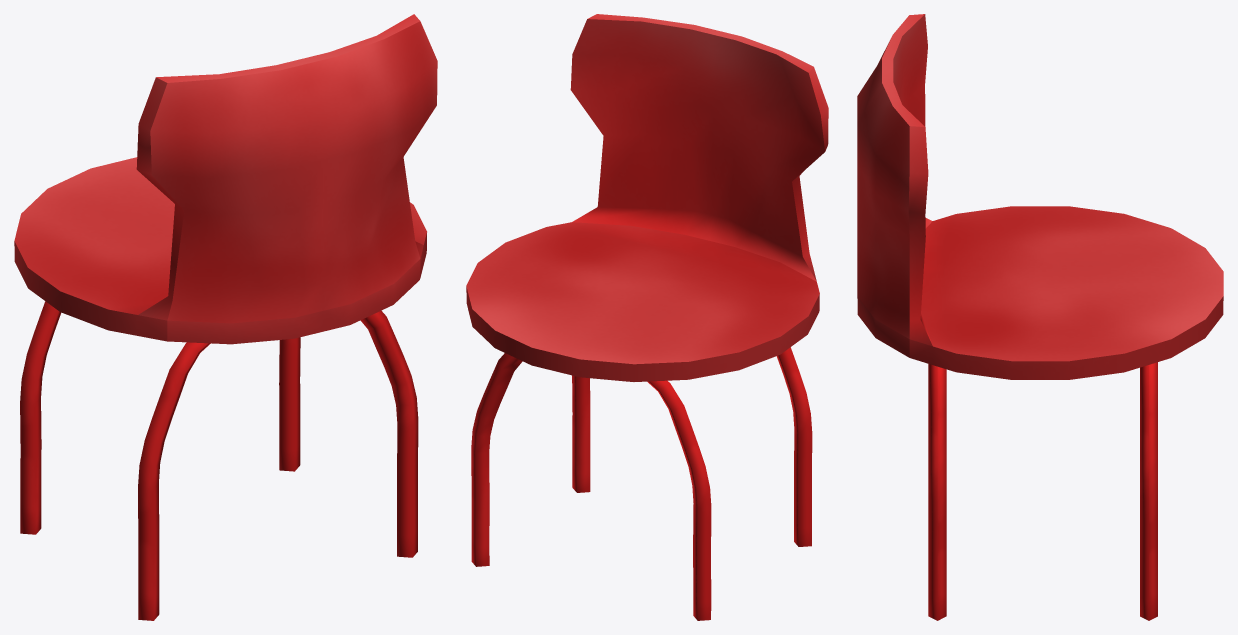
The model's file is BgMD_Chair_pattern2_red.fbx.
The picture shows the model from 3 angles, left to right: view 1: azimuth 30°, elevation 25°; view 2: azimuth 150°, elevation 25°; view 3: azimuth 270°, elevation 25°; orthographic projection. The views are drawn at different scales.
Visible parts, largest first — view 1: BgMD_Chair_pattern2_Color1; view 2: BgMD_Chair_pattern2_Color1; view 3: BgMD_Chair_pattern2_Color1.
Boxes of the visible parts, left/top/right/bottom form: BgMD_Chair_pattern2_Color1: left=14, top=14, right=437, bottom=620; BgMD_Chair_pattern2_Color1: left=466, top=14, right=828, bottom=620; BgMD_Chair_pattern2_Color1: left=857, top=14, right=1223, bottom=620.
Bounding box in the file's own units: 52.39 × 77.13 × 52.34.
